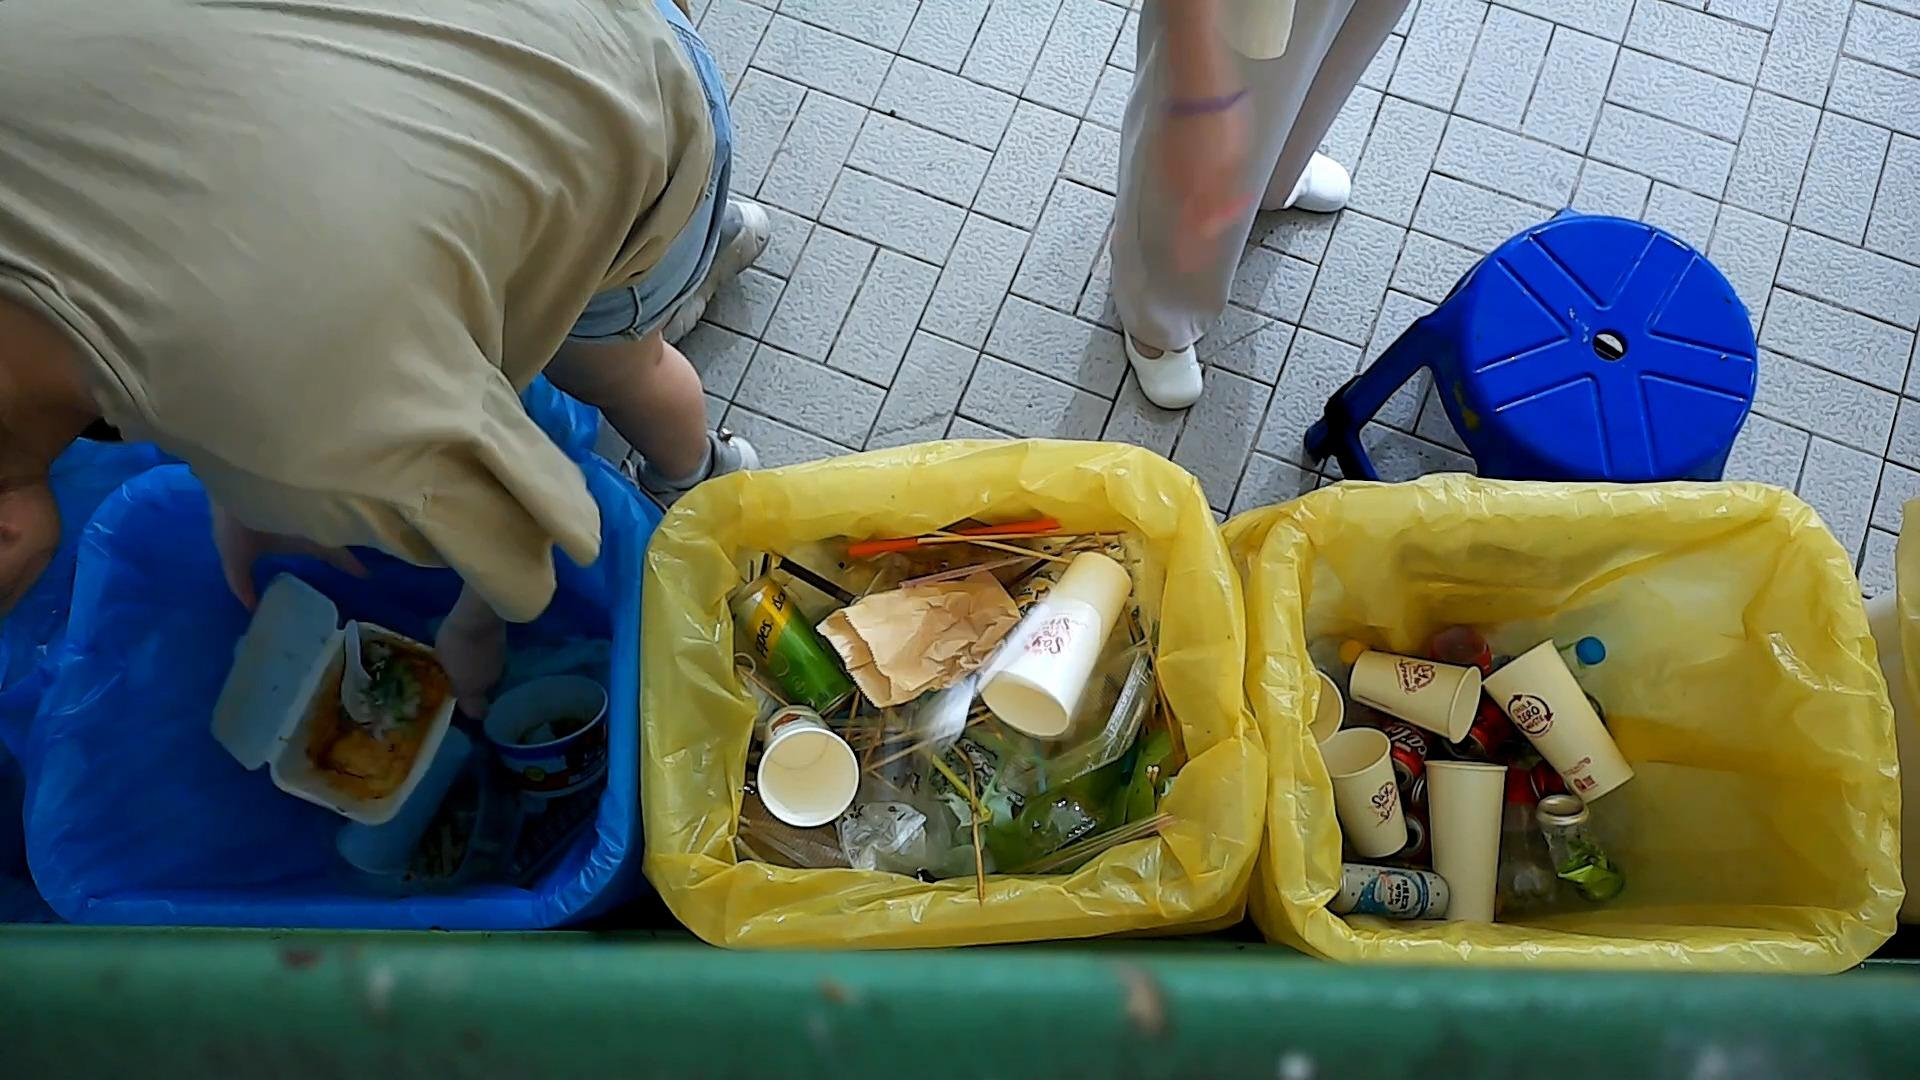can: (723, 572, 861, 724), (1532, 791, 1630, 909), (1321, 860, 1456, 923)
dirty food container: (204, 564, 463, 829), (477, 669, 616, 807)
food container: (993, 640, 1160, 807)
paper bag: (812, 566, 1029, 715)
plastic bag: (839, 778, 978, 885)
plastic cutlery: (339, 617, 382, 725)
sticks: (858, 708, 1002, 777), (923, 525, 1072, 567), (1135, 615, 1178, 752), (915, 525, 1131, 547), (963, 746, 988, 909)
straw: (895, 551, 1035, 593)
zero waste cup: (976, 550, 1133, 740), (1477, 634, 1639, 810), (326, 717, 481, 885), (1423, 757, 1510, 924), (753, 703, 864, 831), (1345, 646, 1484, 746), (1320, 727, 1414, 860)
